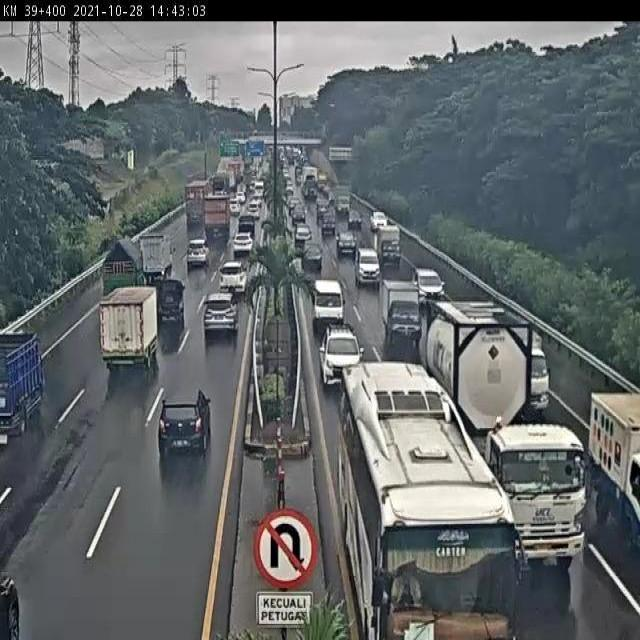big truck: (206, 200, 230, 243)
car: (158, 386, 213, 458), (321, 324, 365, 389), (311, 279, 346, 340), (204, 290, 239, 334), (414, 267, 448, 309), (354, 248, 381, 288), (217, 260, 249, 292), (335, 228, 358, 260), (302, 244, 324, 275), (188, 235, 210, 262), (232, 231, 253, 256)
truck-s-: (100, 285, 161, 372), (0, 332, 46, 435), (382, 282, 427, 354), (101, 236, 145, 301), (527, 326, 550, 410), (143, 228, 177, 273), (375, 224, 403, 268)
truck-xl-: (425, 299, 592, 572)
